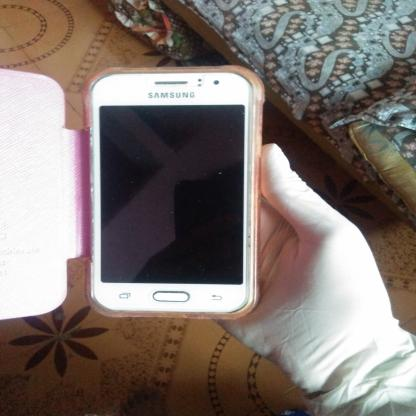gloved_hand: (208, 137, 415, 415)
